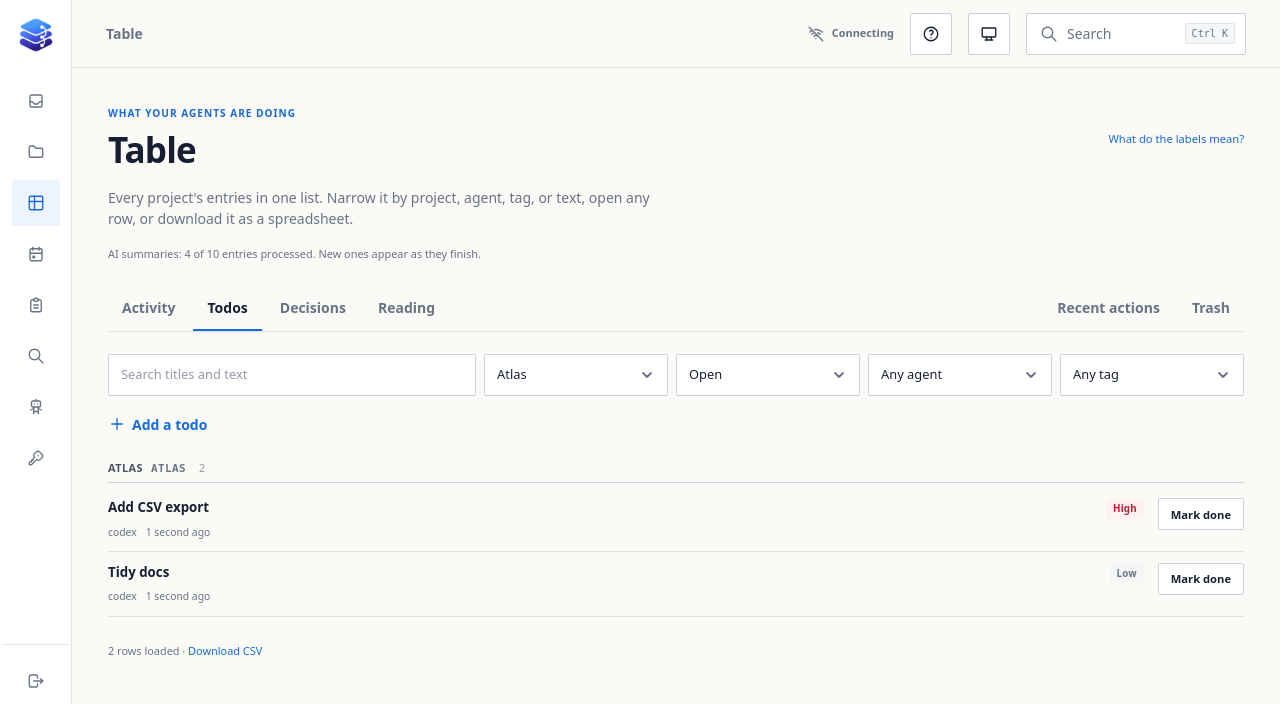
Scenario: table › lists open todos by priority, marks one done, and filters by tag
The width and height of the screenshot is (1280, 704).
Check: the text "High" is shown, box [1106,499,1144,519]
Check: the text "Low" is shown, box [1110,564,1144,584]
Click the button "Add CSV export" at (159,507), box [108,498,1096,517]
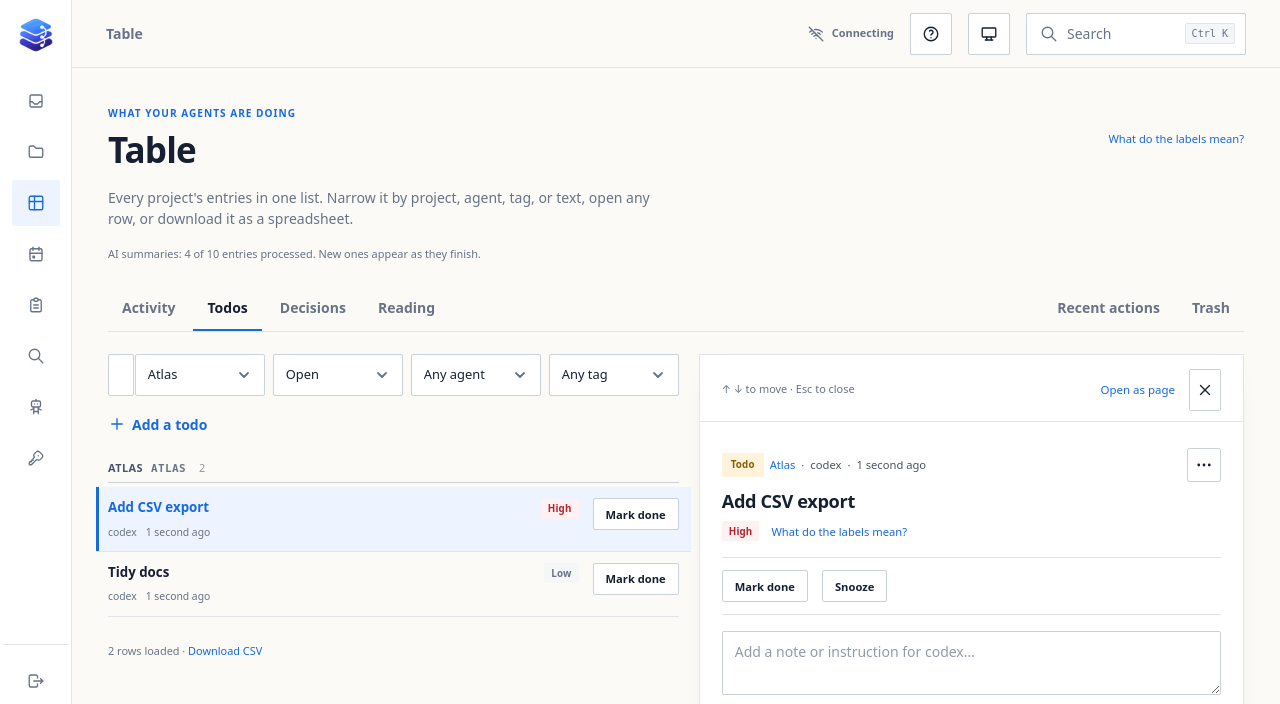
Check: the list item that starts with "Add CSV export" is shown, box [108,498,531,517]
Check: the heading "Add CSV export" is shown, box [722,489,855,513]
Press Arrowdown
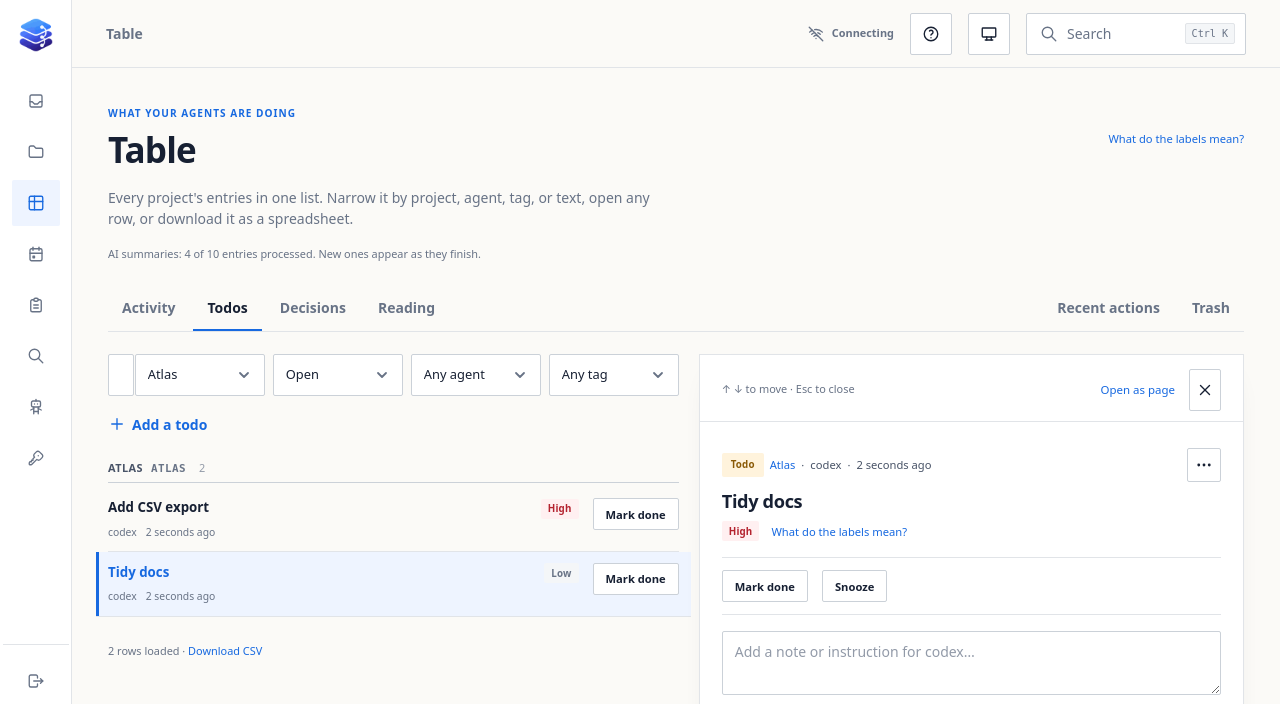
Press Escape
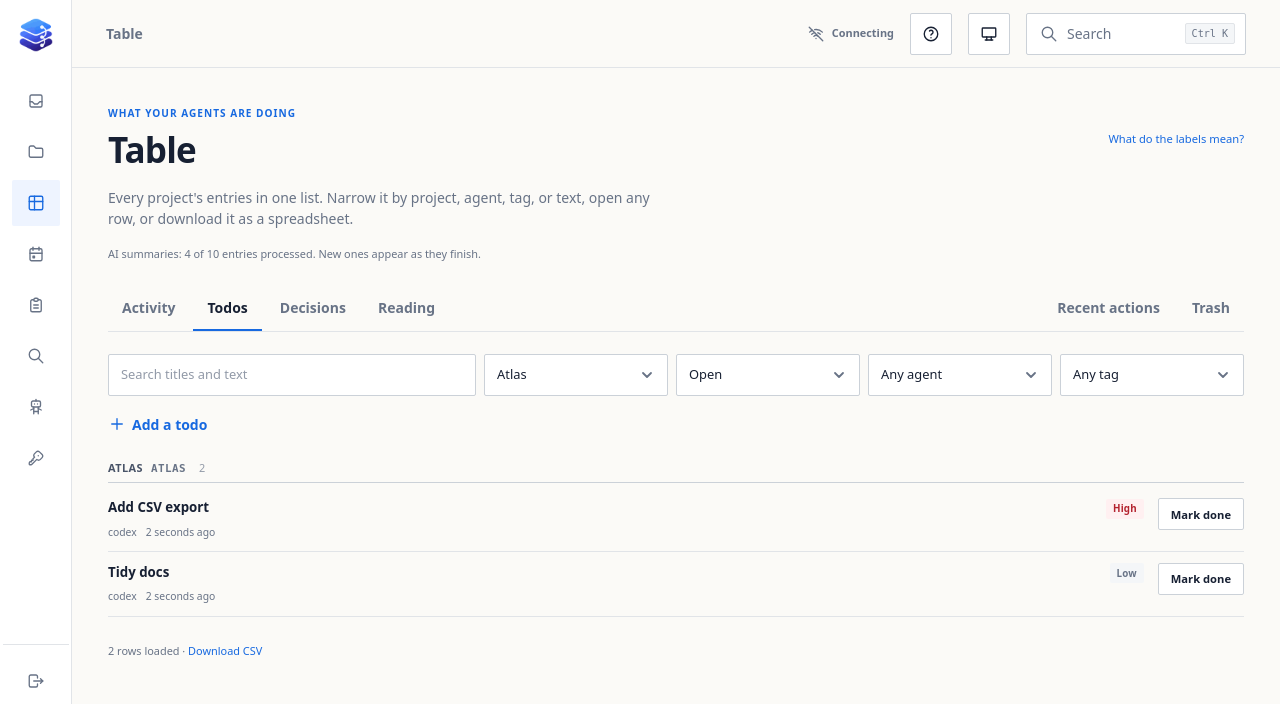
Click the button "Mark done" next to "High" at (1201,514), box [1158,498,1244,530]
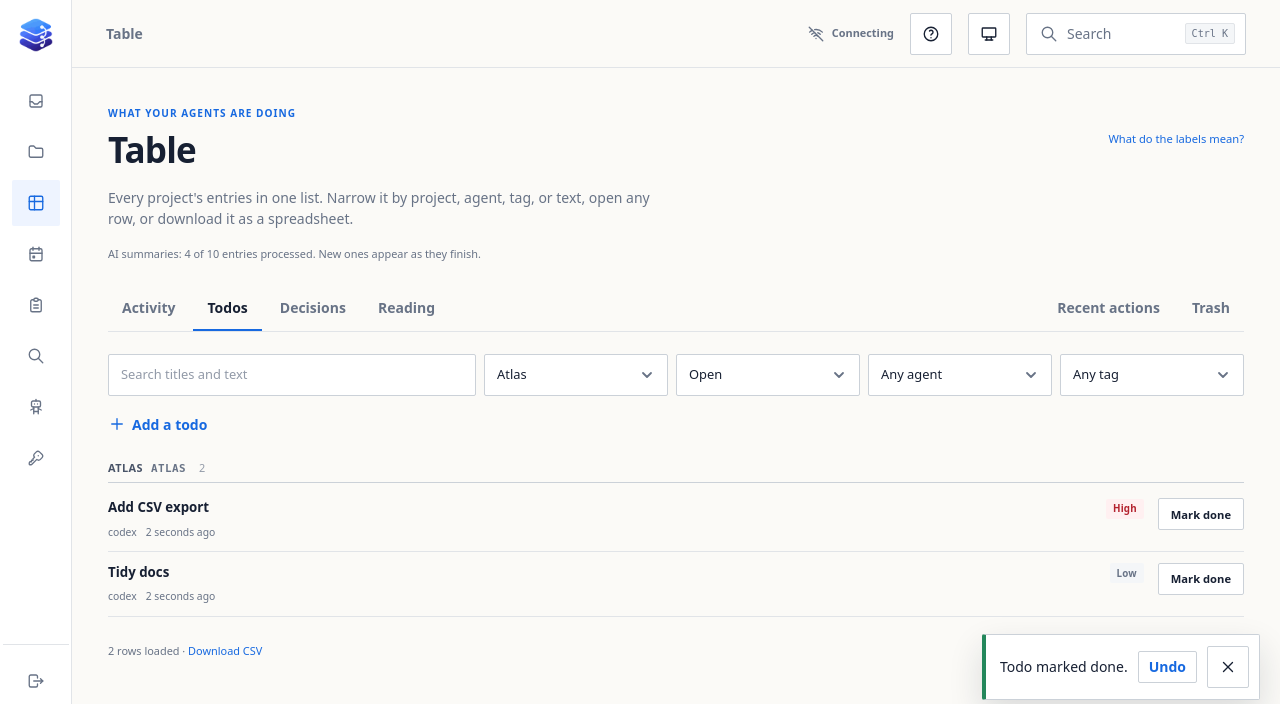
Check: the text "Todo marked done." is shown, box [1000,656,1128,678]
Select "export" in the 4th dropdown named "Filter by tag" at (1152,375), box [1060,354,1244,396]
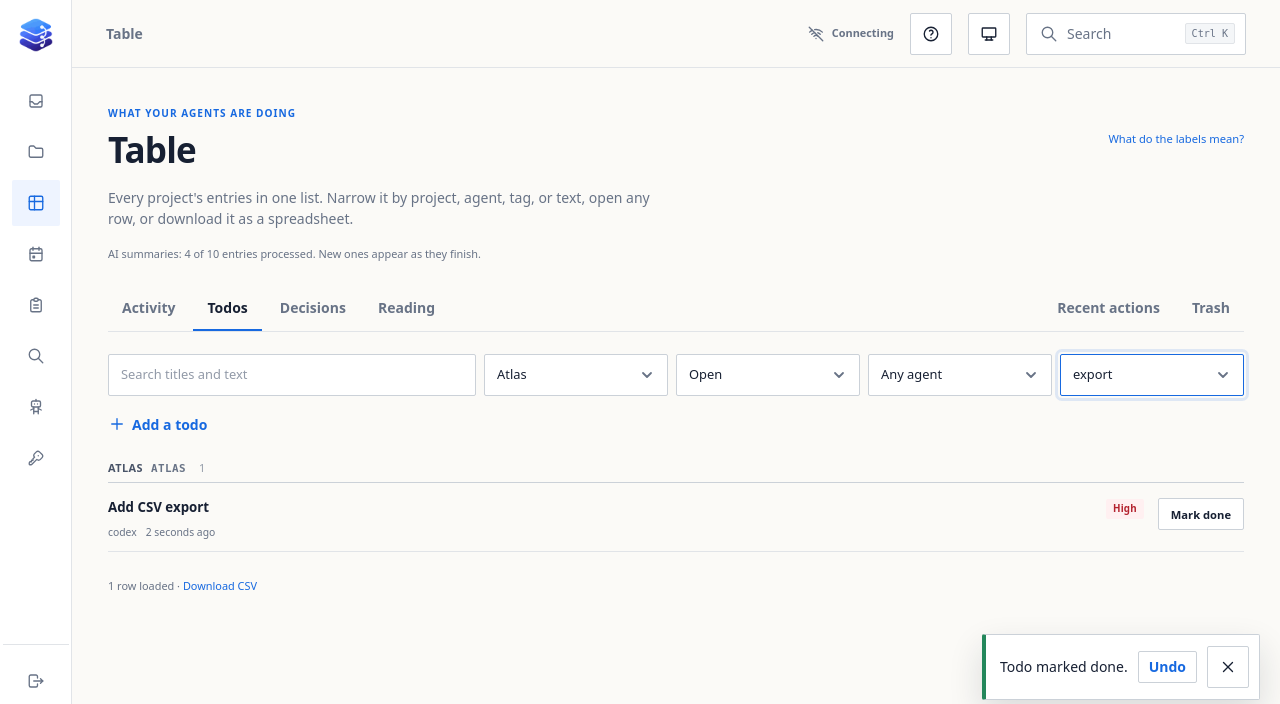
Check: the text "1 row loaded · Download CSV" is shown, box [108,578,257,593]
